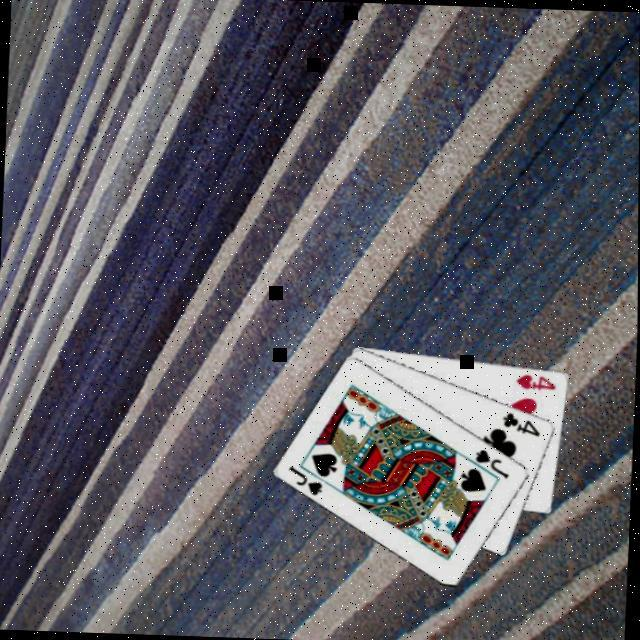4C: (499, 409, 543, 439)
4H: (512, 371, 558, 394)
JS: (471, 446, 512, 481), (285, 464, 326, 499)
